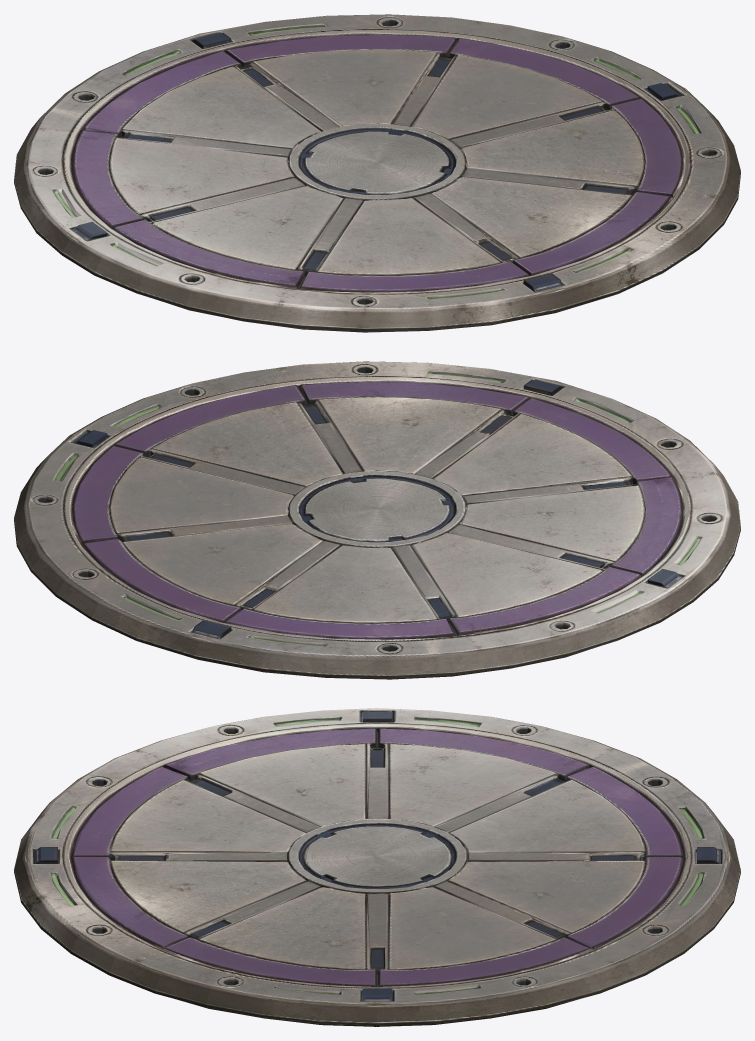
The model's file is warp.fbx.
3 renders of one model, top to bottom at view 1: azimuth 30°, elevation 25°; view 2: azimuth 150°, elevation 25°; view 3: azimuth 270°, elevation 25°, orthographic.
Visible parts, largest first — view 1: warp; view 2: warp; view 3: warp.
Part boxes in pixels (x1=…): warp: x1=14, y1=14, x2=740, y2=332; warp: x1=14, y1=361, x2=740, y2=679; warp: x1=14, y1=708, x2=740, y2=1026.
Bounding box in the file's own units: 3 × 0.1057 × 3.
1 material, 1 textured.
